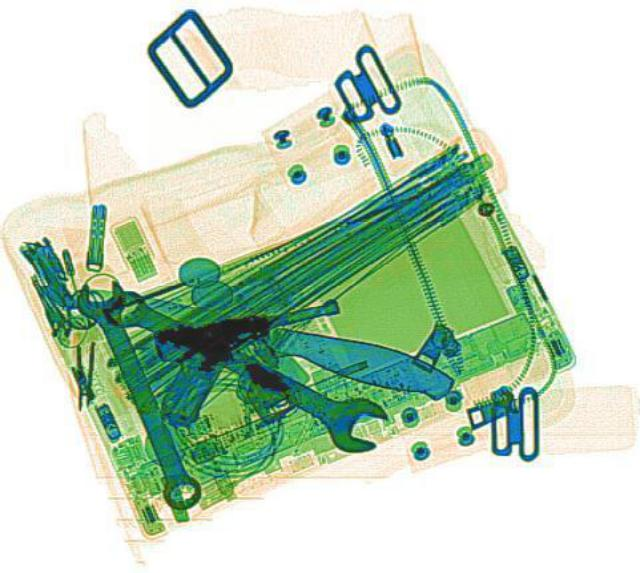Gun: (140, 297, 358, 428)
Knife: (88, 269, 458, 402)
Wrench: (86, 275, 400, 460), (68, 274, 208, 513)
